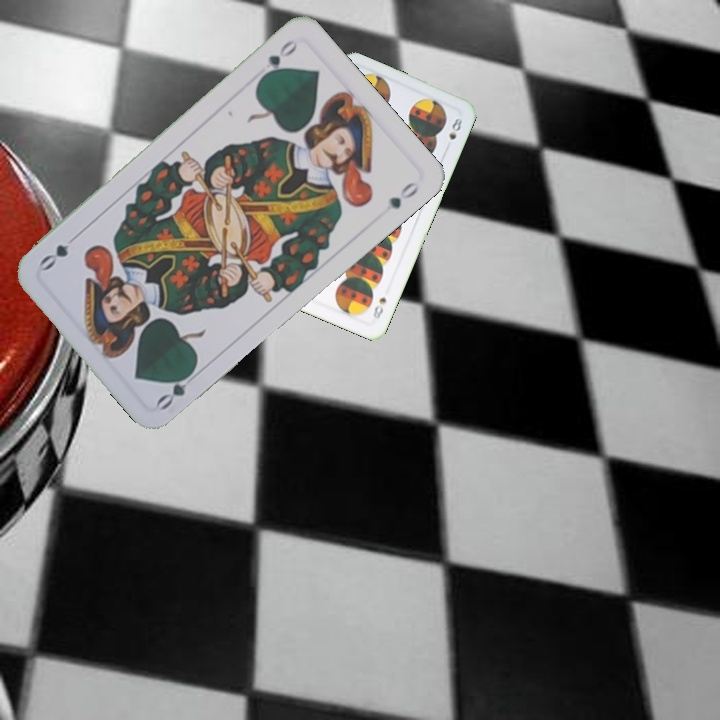GO: (152, 363, 203, 413), (256, 35, 300, 83)
S8: (369, 293, 389, 322)
